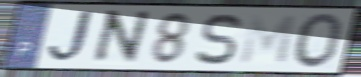8: (148, 11, 193, 67)
J: (45, 9, 100, 66)
M: (237, 13, 298, 67)
N: (88, 8, 153, 67)
O: (291, 11, 345, 70)
S: (193, 12, 244, 67)
